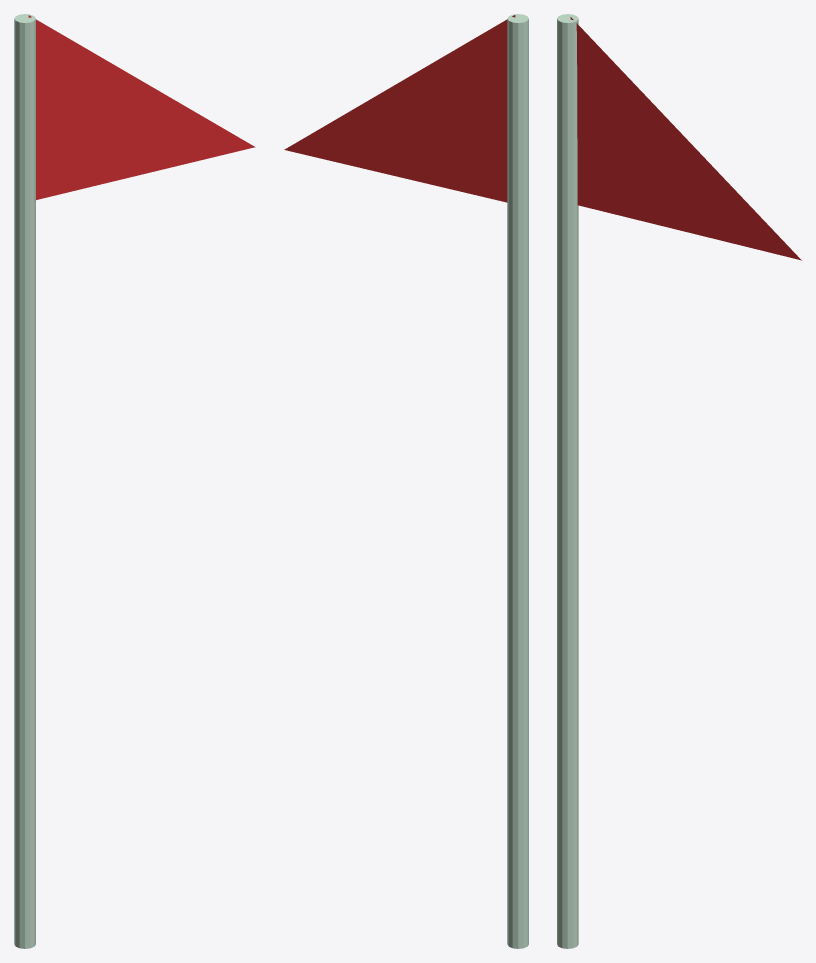
Rendered from bandeira_golfe.fbx.
3 renders of one model, left to right at view 1: azimuth 30°, elevation 25°; view 2: azimuth 150°, elevation 25°; view 3: azimuth 330°, elevation 25°, orthographic.
Parts seen in each view (by area): view 1: Cylinder; view 2: Cylinder; view 3: Cylinder.
Boxes of the visible parts, bbox=[...] form: Cylinder: bbox=[14, 14, 255, 948]; Cylinder: bbox=[284, 14, 528, 948]; Cylinder: bbox=[557, 14, 801, 948].
Bounding box in the file's own units: 600 × 2202 × 46.31.
